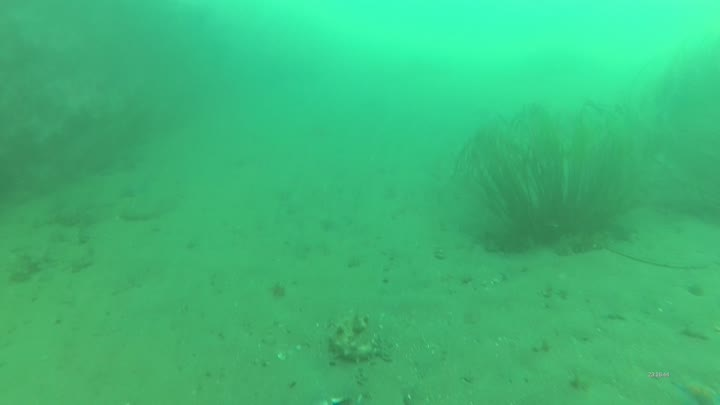holothurian: (332, 315, 382, 362)
